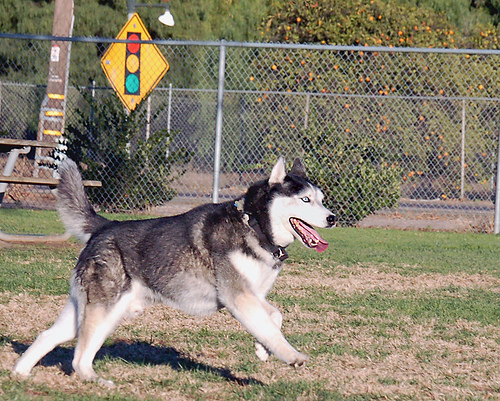dog: (14, 153, 337, 379)
